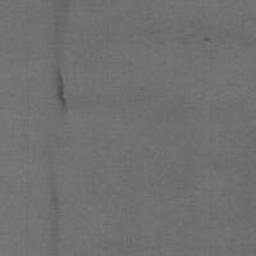Inclusion: (51, 0, 73, 110), (46, 168, 61, 256), (201, 36, 212, 42)
